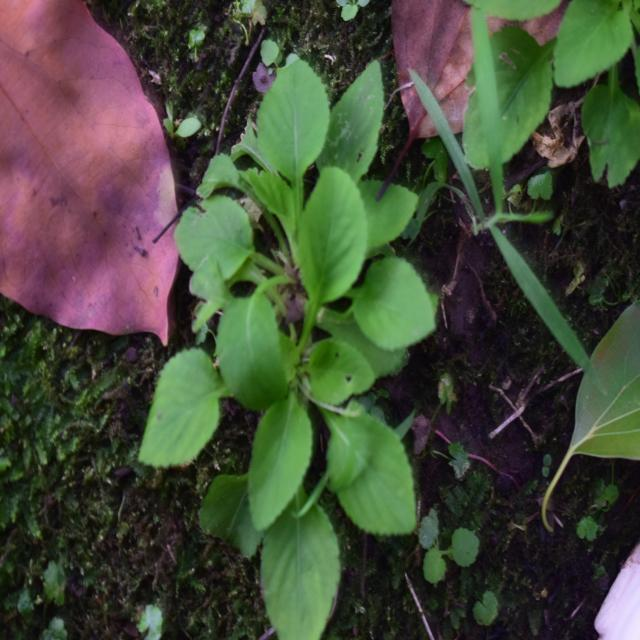Viola: (161, 217, 467, 587)
